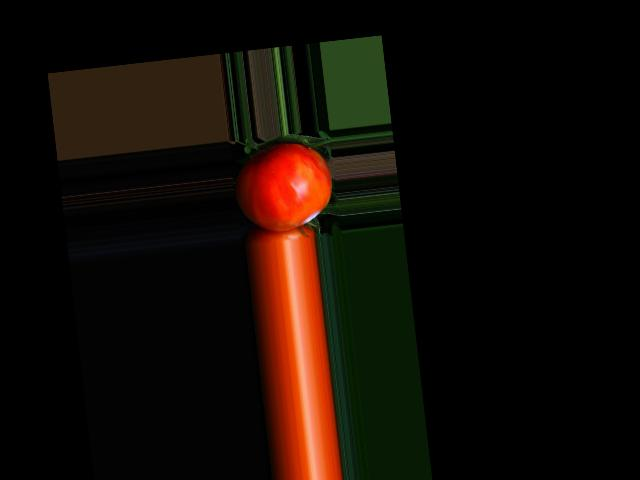tomato: (230, 138, 336, 235)
